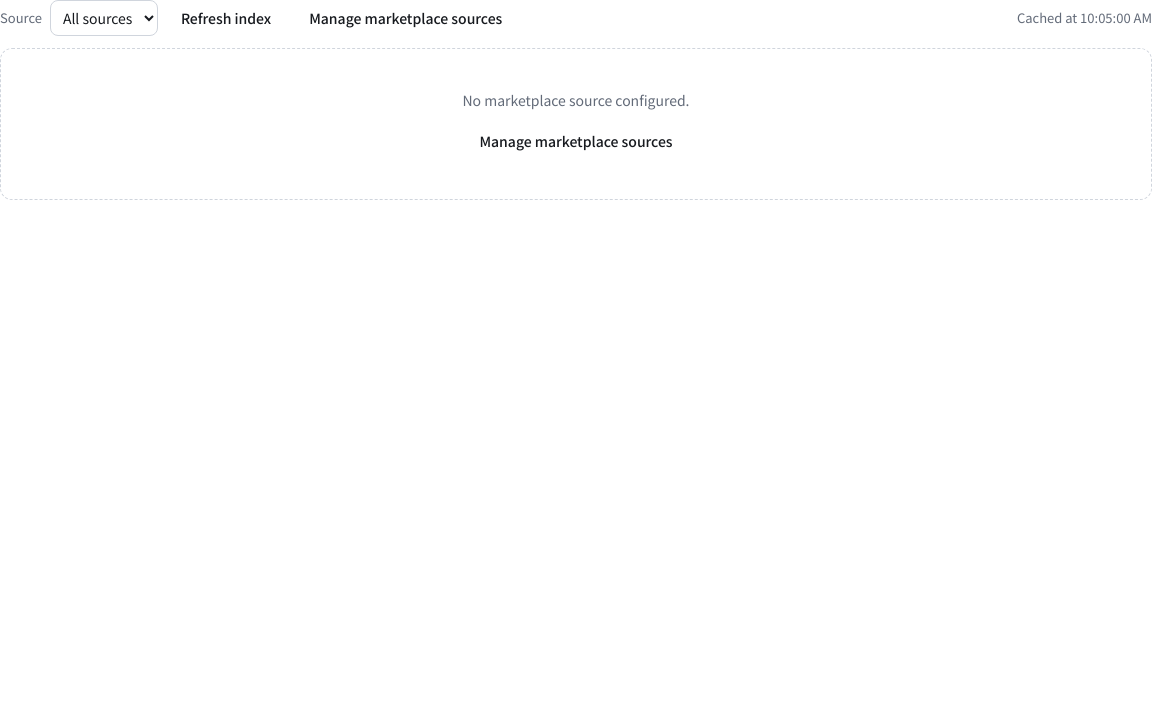
Scenario: marketplace tab (F-08-33/34) › shows the no-source empty state and opens source management
This screenshot has width=1152, height=720.
Expected: the text "No marketplace source configured." is shown, 462,89 -> 690,111
Click the button "Manage marketplace sources" in the row of "Cached at 10:05:00 AM": (406, 18) 294,0 -> 517,36
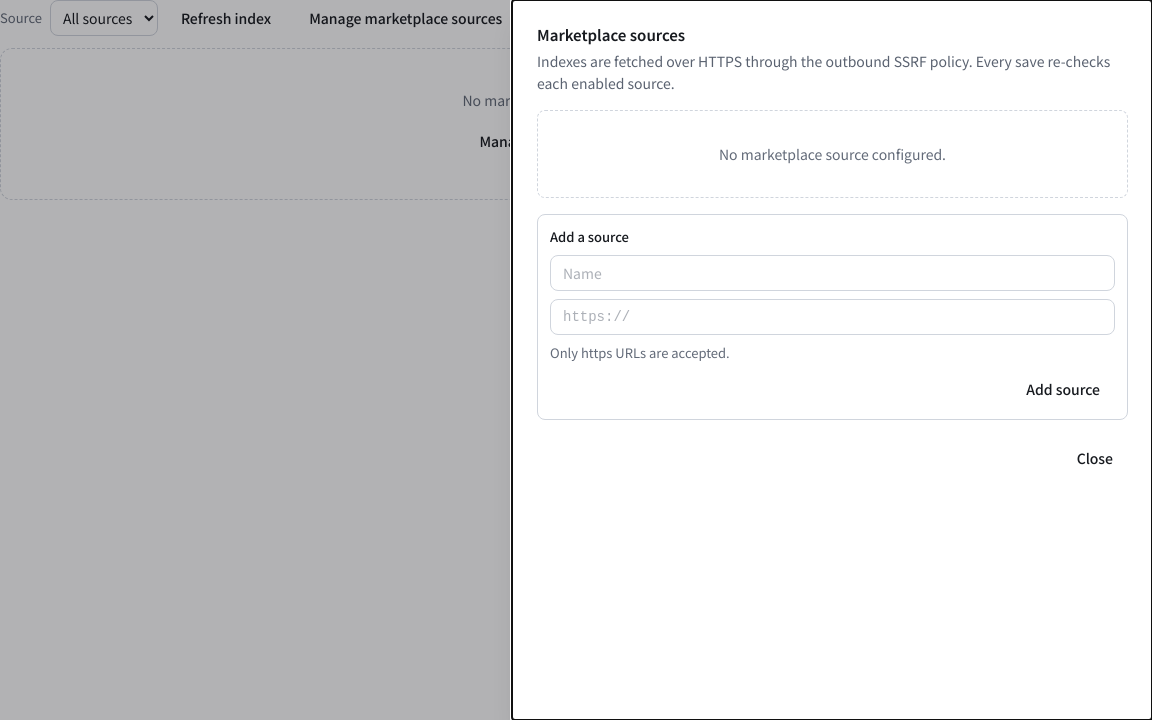
Expected: the 1st text "No marketplace source configured." is shown, 462,89 -> 690,111
Now the heading "Marketplace sources" is shown, box 537,24 -> 685,45
